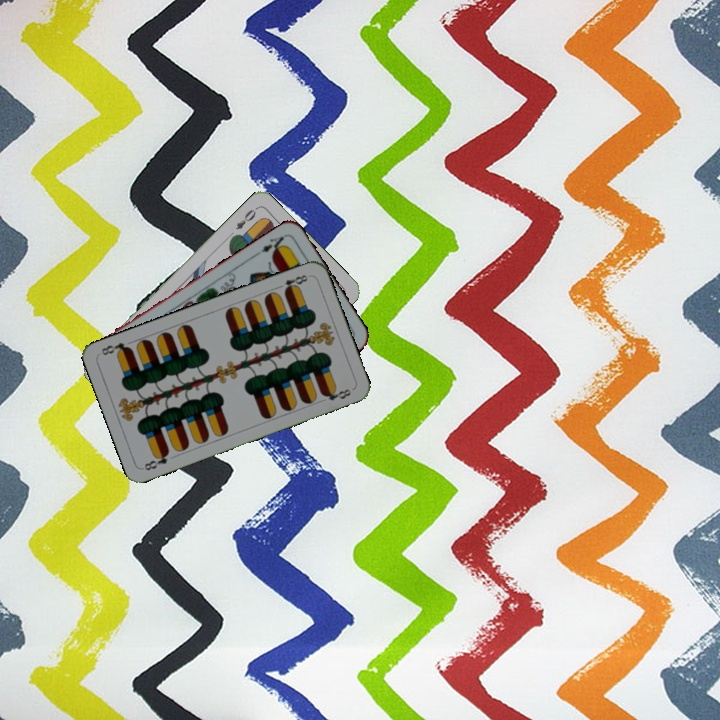E8: (273, 271, 310, 295), (140, 447, 172, 473)
EA: (257, 231, 289, 257)
EO: (232, 203, 260, 232)
